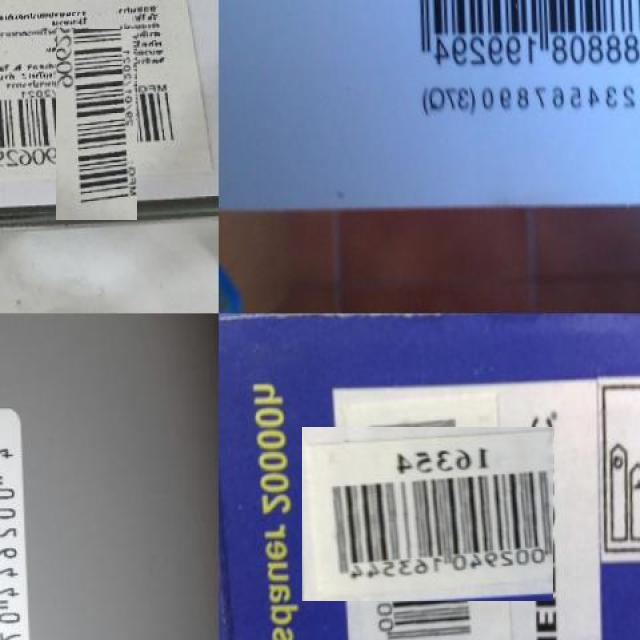Barcode: (322, 408, 534, 620), (386, 0, 640, 77), (28, 56, 164, 193)
